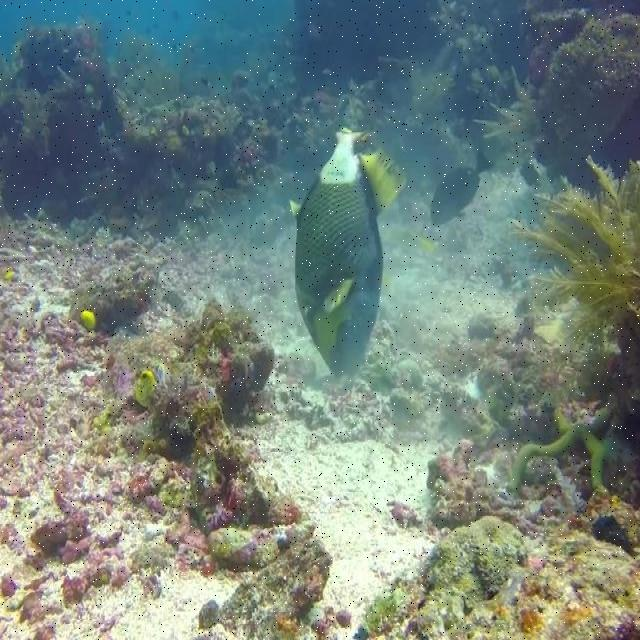aquatic plants: (506, 153, 639, 361)
fish: (289, 127, 403, 385), (431, 150, 492, 231), (132, 371, 157, 411)
reefs: (510, 405, 613, 496)
